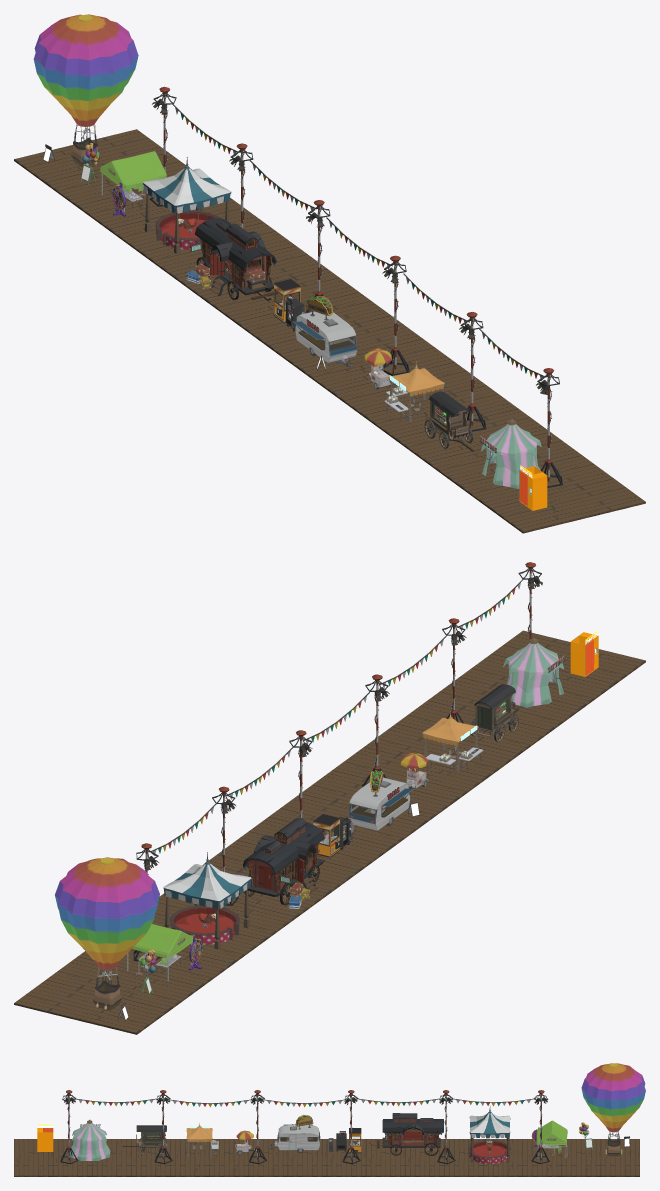
Rendered from CommercialStrip3_opt.glb.
3 renders of one model, top to bottom at view 1: azimuth 30°, elevation 25°; view 2: azimuth 150°, elevation 25°; view 3: azimuth 270°, elevation 25°, orthographic. The views are drawn at different scales.
Visible parts, largest first — view 1: Boardwalk, SM_Prop_Hot_Air_Balloon_01.002, SM_Veh_Wagon_01, Bull_Tent, SM_Prop_Tent_01, SM_Veh_Food_Trailer_02, SM_Prop_Tent_03, SM_Veh_Wagon_Shop_01, SM_Prop_Mechanical_Bull_Pit_01, SM_Prop_Market_Stall_05, Photo_booth_Cube.031; view 2: Boardwalk, SM_Prop_Hot_Air_Balloon_01.002, SM_Veh_Wagon_01, Bull_Tent, SM_Prop_Tent_01, SM_Veh_Food_Trailer_02, SM_Prop_Mechanical_Bull_Pit_01, SM_Prop_Tent_03, SM_Veh_Wagon_Shop_01, SM_Prop_Market_Stall_05, Photo_booth_Cube.031, Claw_Machine; view 3: Boardwalk, SM_Prop_Hot_Air_Balloon_01.002, SM_Veh_Wagon_01, SM_Prop_Tent_01, SM_Veh_Food_Trailer_02, Bull_Tent, SM_Prop_Tent_03, SM_Prop_Mechanical_Bull_Pit_01, SM_Veh_Wagon_Shop_01, SM_Prop_Market_Stall_05, Photo_booth_Cube.031, SM_Prop_Bunting_Pole_01.002 (+12 smaller).
Part boxes in pixels (x1=…): Boardwalk: x1=14, y1=129, x2=645, y2=533; SM_Prop_Hot_Air_Balloon_01.002: x1=33, y1=14, x2=138, y2=166; SM_Veh_Wagon_01: x1=190, y1=218, x2=278, y2=300; Bull_Tent: x1=143, y1=157, x2=231, y2=253; SM_Prop_Tent_01: x1=480, y1=418, x2=541, y2=488; SM_Veh_Food_Trailer_02: x1=292, y1=311, x2=357, y2=370; SM_Prop_Tent_03: x1=100, y1=151, x2=166, y2=213; SM_Veh_Wagon_Shop_01: x1=429, y1=391, x2=470, y2=439; SM_Prop_Mechanical_Bull_Pit_01: x1=155, y1=210, x2=220, y2=245; SM_Prop_Market_Stall_05: x1=388, y1=361, x2=444, y2=421; Photo_booth_Cube.031: x1=519, y1=466, x2=547, y2=510; Boardwalk: x1=14, y1=630, x2=645, y2=1034; SM_Prop_Hot_Air_Balloon_01.002: x1=55, y1=857, x2=159, y2=1010; SM_Veh_Wagon_01: x1=243, y1=817, x2=325, y2=905; Bull_Tent: x1=163, y1=852, x2=251, y2=949; SM_Prop_Tent_01: x1=503, y1=637, x2=564, y2=707; SM_Veh_Food_Trailer_02: x1=348, y1=777, x2=413, y2=830; SM_Prop_Mechanical_Bull_Pit_01: x1=169, y1=905, x2=240, y2=939; SM_Prop_Tent_03: x1=126, y1=924, x2=193, y2=982; SM_Veh_Wagon_Shop_01: x1=474, y1=684, x2=515, y2=737; SM_Prop_Market_Stall_05: x1=422, y1=711, x2=478, y2=771; Photo_booth_Cube.031: x1=570, y1=632, x2=598, y2=676; Claw_Machine: x1=313, y1=814, x2=340, y2=858; Boardwalk: x1=14, y1=1139, x2=639, y2=1176; SM_Prop_Hot_Air_Balloon_01.002: x1=581, y1=1063, x2=645, y2=1156; SM_Veh_Wagon_01: x1=369, y1=1113, x2=443, y2=1155; SM_Prop_Tent_01: x1=69, y1=1119, x2=110, y2=1160; SM_Veh_Food_Trailer_02: x1=267, y1=1124, x2=320, y2=1150; Bull_Tent: x1=469, y1=1106, x2=510, y2=1162; SM_Prop_Tent_03: x1=536, y1=1120, x2=567, y2=1159; SM_Prop_Mechanical_Bull_Pit_01: x1=468, y1=1139, x2=510, y2=1164; SM_Veh_Wagon_Shop_01: x1=136, y1=1125, x2=167, y2=1147; SM_Prop_Market_Stall_05: x1=186, y1=1123, x2=212, y2=1157; Photo_booth_Cube.031: x1=37, y1=1128, x2=53, y2=1151; SM_Prop_Bunting_Pole_01.002: x1=154, y1=1090, x2=172, y2=1164.
Bounding box in the file's own units: 10.76 × 12.23 × 77.9.
Materials: 26 (13 with a texture image).
